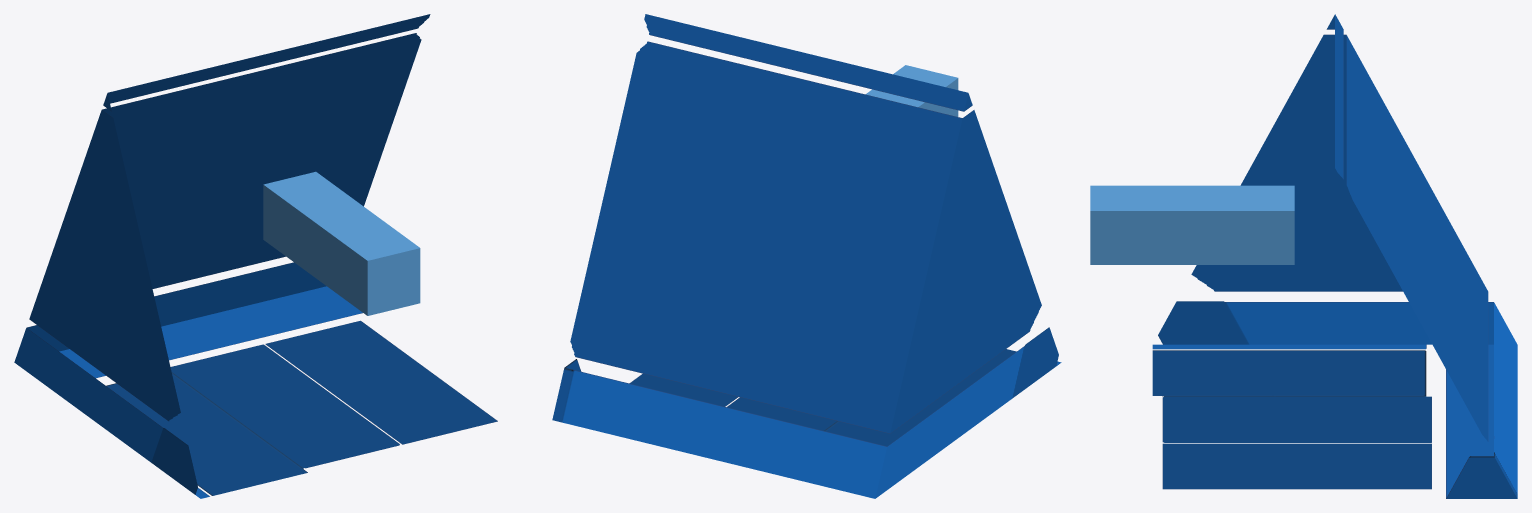
Rendered from player.obj.
3 views of the same model, side by side, from view 1: azimuth 30°, elevation 25°; view 2: azimuth 150°, elevation 25°; view 3: azimuth 270°, elevation 25° (orthographic). The views are drawn at different scales.
Parts seen in each view (by area): view 1: Cube_Cube.007, Cube.001_Cube.008; view 2: Cube_Cube.007, Cube.001_Cube.008; view 3: Cube_Cube.007, Cube.001_Cube.008.
Boxes of the visible parts, bbox=[...] form: Cube_Cube.007: bbox=[14, 14, 497, 498]; Cube.001_Cube.008: bbox=[263, 171, 420, 315]; Cube_Cube.007: bbox=[552, 14, 1061, 498]; Cube.001_Cube.008: bbox=[865, 65, 958, 116]; Cube_Cube.007: bbox=[1152, 14, 1517, 498]; Cube.001_Cube.008: bbox=[1090, 185, 1294, 264].
Size of the model in its own units: 0.7 by 0.7 by 0.8195.
Materials: 2 (2 with a texture image).
